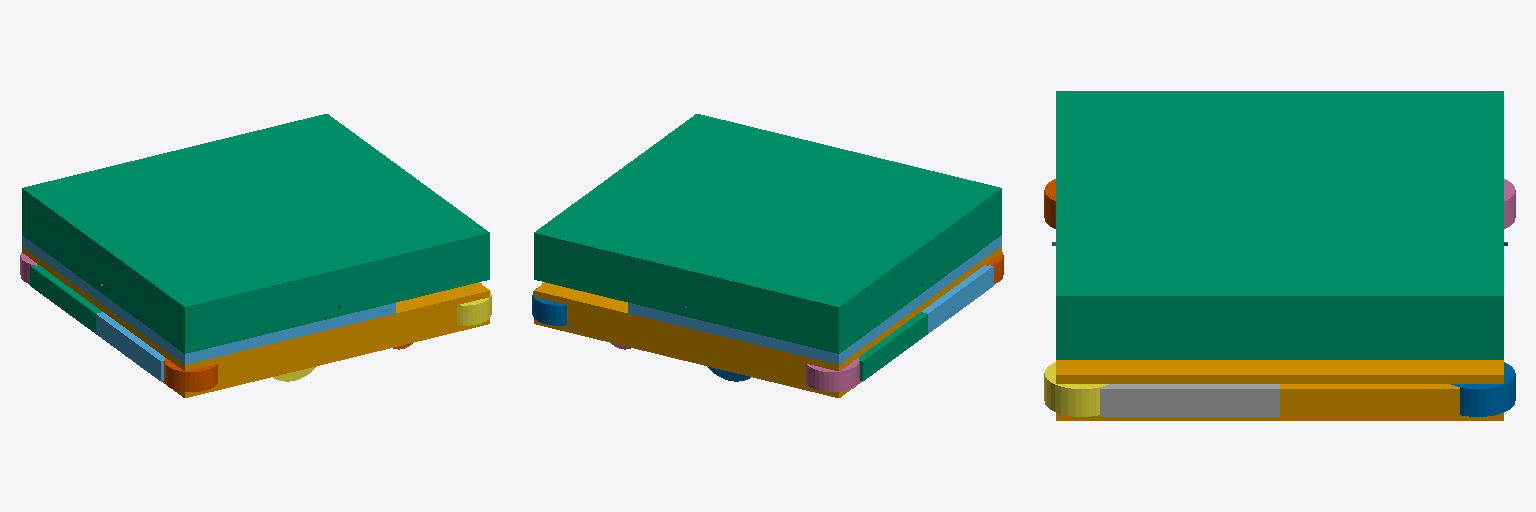
--- What the picture shows (computed from the rendered views, not written in the file) ---
The picture shows the robot from 3 angles, left to right: view 1: azimuth 30°, elevation 25°; view 2: azimuth 150°, elevation 25°; view 3: azimuth 270°, elevation 25°; orthographic projection.
Model gobot with 44 links and 43 joints (6 continuous, 10 prismatic, 27 fixed), rooted at base_link, posed all joints at 0.
Visible links, largest first — view 1: top_base_link, base_link, mid_base_link, back_right_bumper, back_left_bumper, back_right_cyl_bumper, front_right_cyl_bumper; view 2: top_base_link, base_link, mid_base_link, back_left_bumper, back_right_bumper, back_left_cyl_bumper, front_left_cyl_bumper; view 3: top_base_link, base_link, front_right_bumper, front_left_bumper, front_right_cyl_bumper, front_left_cyl_bumper.
Link boxes in pixels (x1,y1,x2,y2): top_base_link: [22, 114, 489, 353]; base_link: [22, 246, 489, 397]; mid_base_link: [22, 235, 395, 364]; back_right_bumper: [96, 312, 164, 381]; back_left_bumper: [30, 264, 102, 333]; back_right_cyl_bumper: [164, 358, 217, 391]; front_right_cyl_bumper: [457, 288, 491, 325]; top_base_link: [534, 114, 1001, 353]; base_link: [534, 246, 1001, 397]; mid_base_link: [628, 235, 1001, 364]; back_left_bumper: [859, 312, 927, 381]; back_right_bumper: [921, 265, 993, 333]; back_left_cyl_bumper: [806, 358, 859, 391]; front_left_cyl_bumper: [532, 288, 566, 325]; top_base_link: [1056, 91, 1503, 359]; base_link: [1056, 360, 1503, 420]; front_right_bumper: [1100, 384, 1279, 416]; front_left_bumper: [1280, 384, 1459, 416]; front_right_cyl_bumper: [1044, 362, 1108, 416]; front_left_cyl_bumper: [1451, 362, 1515, 416].
Bounding box of the posed robot: 0.68 × 0.629 × 0.235 m (x, y, z).
Meshes: 1 distinct files referenced, 0 mesh visuals loaded (none loaded); not drawn: 11 (reference not matched to a file when rendering), 1 (reference in a form the renderer does not follow; not among the files counted above).

URDF robot description (gobot):
<?xml version="1.0" ?>
<!-- =================================================================================== -->
<!-- |    This document was autogenerated by xacro from gobot.urdf.xacro               | -->
<!-- |    EDITING THIS FILE BY HAND IS NOT RECOMMENDED                                 | -->
<!-- =================================================================================== -->
<robot name="gobot" xmlns:xacro="http://ros.org/wiki/xacro">
  <material name="black">
    <color rgba="0.0 0.0 0.0 1.0"/>
  </material>
  <material name="blue">
    <color rgba="0.0 0.0 0.8 1.0"/>
  </material>
  <material name="green">
    <color rgba="0.0 0.8 0.0 1.0"/>
  </material>
  <material name="grey">
    <color rgba="0.2 0.2 0.2 1.0"/>
  </material>
  <material name="orange">
    <color rgba="1.0 0.423529411765 0.0392156862745 1.0"/>
  </material>
  <material name="brown">
    <color rgba="0.870588235294 0.811764705882 0.764705882353 1.0"/>
  </material>
  <material name="red">
    <color rgba="0.8 0.0 0.0 1.0"/>
  </material>
  <material name="white">
    <color rgba="1.0 1.0 1.0 1.0"/>
  </material>
  <!-- in kg-->
  <!--fb : front, back ; lr: left, right -->
  <!-- The lower part of the base link -->
  <link name="base_link">
    <collision>
      <origin rpy="0 0 0" xyz="0 0 0.05"/>
      <geometry>
        <box size="0.648 0.599 0.068"/>
      </geometry>
    </collision>
    <visual>
      <origin rpy="0 0 0" xyz="0 0 0.05"/>
      <geometry>
        <box size="0.648 0.599 0.068"/>
      </geometry>
    </visual>
    <inertial>
      <origin rpy="0 0 0" xyz="0 0 0.05"/>
      <mass value="4"/>
      <inertia ixx="0.121141666667" ixy="0" ixz="0" iyy="0.141509333333" iyz="0" izz="0.141509333333"/>
    </inertial>
  </link>
  <gazebo reference="base_link">
    <material>Gazebo/Grey</material>
  </gazebo>
  <!-- The middle part of the base link -->
  <link name="mid_base_link">
    <collision>
      <origin rpy="0 0 0" xyz="0 0 0.05"/>
      <geometry>
        <box size="0.448 0.599 0.022"/>
      </geometry>
    </collision>
    <visual>
      <origin rpy="0 0 0" xyz="0 0 0.05"/>
      <geometry>
        <box size="0.448 0.599 0.022"/>
      </geometry>
    </visual>
    <inertial>
      <origin rpy="0 0 0" xyz="0 0 0.05"/>
      <mass value="2"/>
      <inertia ixx="0.0598808333333" ixy="0" ixz="0" iyy="0.0335313333333" iyz="0" izz="0.0335313333333"/>
    </inertial>
  </link>
  <gazebo reference="mid_base_link">
    <material>Gazebo/Grey</material>
  </gazebo>
  <!-- The top part of the base link -->
  <link name="top_base_link">
    <collision>
      <origin rpy="0 0 0" xyz="0 0 0.05"/>
      <geometry>
        <box size="0.648 0.599 0.095"/>
      </geometry>
    </collision>
    <visual>
      <origin rpy="0 0 0" xyz="0 0 0.05"/>
      <geometry>
        <box size="0.648 0.599 0.095"/>
      </geometry>
    </visual>
    <inertial>
      <origin rpy="0 0 0" xyz="0 0 0.05"/>
      <mass value="4"/>
      <inertia ixx="0.122608666667" ixy="0" ixz="0" iyy="0.142976333333" iyz="0" izz="0.142976333333"/>
    </inertial>
  </link>
  <gazebo reference="top_base_link">
    <material>Gazebo/Grey</material>
  </gazebo>
  <!-- The joint between the lower and middle part of the base link -->
  <joint name="lower_mid_joint" type="fixed">
    <origin xyz="-0.1 0 0.045"/>
    <parent link="base_link"/>
    <child link="mid_base_link"/>
  </joint>
  <!-- The joint between the middle and top part of the base link -->
  <joint name="mid_top_joint" type="fixed">
    <origin xyz="0.1 0 0.0585"/>
    <parent link="mid_base_link"/>
    <child link="top_base_link"/>
  </joint>
  <link name="front_right_cyl_bumper">
    <visual>
      <origin rpy="0 0  0 " xyz="0 0 0"/>
      <geometry>
        <cylinder length="0.041" radius="0.05"/>
      </geometry>
    </visual>
    <collision>
      <origin rpy="0 0 0 " xyz="0 0 0"/>
      <geometry>
        <cylinder length="0.041" radius="0.05"/>
      </geometry>
    </collision>
    <inertial>
      <mass value="0.1"/>
      <origin xyz="0 0 0"/>
      <inertia ixx="7.65083333333e-05" ixy="0" ixz="0" iyy="7.65083333333e-05" iyz="0" izz="0.000125"/>
    </inertial>
  </link>
  <joint name="front_right_cyl_bumper_joint" type="prismatic">
    <parent link="base_link"/>
    <child link="front_right_cyl_bumper"/>
    <origin rpy="0 0 0" xyz="0.2895 -0.2645 0.05"/>
    <axis xyz="1 0 0"/>
    <limit effort="1000" lower="-0.005" upper="0" velocity="0.5"/>
  </joint>
  <gazebo reference="front_right_cyl_bumper">
    <material>Gazebo/Black</material>
    <sensor name="front_right_cyl_bumper_sensor" type="contact">
      <contact>
        <collision>base_link_fixed_joint_lump__front_right_cyl_bumper_collision_12</collision>
      </contact>
      <plugin filename="libgazebo_ros_bumper.so" name="front_right_cyl_bumper_gazebo_ros_bumper_controller">
        <alwaysOn>true</alwaysOn>
        <updateRate>20</updateRate>
        <bumperTopicName>front_right_cyl_bumper</bumperTopicName>
        <frameName>world</frameName>
      </plugin>
    </sensor>
  </gazebo>
  <link name="front_left_cyl_bumper">
    <visual>
      <origin rpy="0 0  0 " xyz="0 0 0"/>
      <geometry>
        <cylinder length="0.041" radius="0.05"/>
      </geometry>
    </visual>
    <collision>
      <origin rpy="0 0 0 " xyz="0 0 0"/>
      <geometry>
        <cylinder length="0.041" radius="0.05"/>
      </geometry>
    </collision>
    <inertial>
      <mass value="0.1"/>
      <origin xyz="0 0 0"/>
      <inertia ixx="7.65083333333e-05" ixy="0" ixz="0" iyy="7.65083333333e-05" iyz="0" izz="0.000125"/>
    </inertial>
  </link>
  <joint name="front_left_cyl_bumper_joint" type="prismatic">
    <parent link="base_link"/>
    <child link="front_left_cyl_bumper"/>
    <origin rpy="0 0 0" xyz="0.2895 0.2645 0.05"/>
    <axis xyz="1 0 0"/>
    <limit effort="1000" lower="-0.005" upper="0" velocity="0.5"/>
  </joint>
  <gazebo reference="front_left_cyl_bumper">
    <material>Gazebo/Black</material>
    <sensor name="front_left_cyl_bumper_sensor" type="contact">
      <contact>
        <collision>base_link_fixed_joint_lump__front_left_cyl_bumper_collision_10</collision>
      </contact>
      <plugin filename="libgazebo_ros_bumper.so" name="front_left_cyl_bumper_gazebo_ros_bumper_controller">
        <alwaysOn>true</alwaysOn>
        <updateRate>20</updateRate>
        <bumperTopicName>front_left_cyl_bumper</bumperTopicName>
        <frameName>world</frameName>
      </plugin>
    </sensor>
  </gazebo>
  <link name="back_right_cyl_bumper">
    <visual>
      <origin rpy="0 0  0 " xyz="0 0 0"/>
      <geometry>
        <cylinder length="0.041" radius="0.05"/>
      </geometry>
    </visual>
    <collision>
      <origin rpy="0 0 0 " xyz="0 0 0"/>
      <geometry>
        <cylinder length="0.041" radius="0.05"/>
      </geometry>
    </collision>
    <inertial>
      <mass value="0.1"/>
      <origin xyz="0 0 0"/>
      <inertia ixx="7.65083333333e-05" ixy="0" ixz="0" iyy="7.65083333333e-05" iyz="0" izz="0.000125"/>
    </inertial>
  </link>
  <joint name="back_right_cyl_bumper_joint" type="prismatic">
    <parent link="base_link"/>
    <child link="back_right_cyl_bumper"/>
    <origin rpy="0 0 0" xyz="-0.2895 -0.2645 0.05"/>
    <axis xyz="1 0 0"/>
    <limit effort="1000" lower="0" upper="0.005" velocity="-0.5"/>
  </joint>
  <gazebo reference="back_right_cyl_bumper">
    <material>Gazebo/Black</material>
    <sensor name="back_right_cyl_bumper_sensor" type="contact">
      <contact>
        <collision>base_link_fixed_joint_lump__back_right_cyl_bumper_collision_4</collision>
      </contact>
      <plugin filename="libgazebo_ros_bumper.so" name="back_right_cyl_bumper_gazebo_ros_bumper_controller">
        <alwaysOn>true</alwaysOn>
        <updateRate>20</updateRate>
        <bumperTopicName>back_right_cyl_bumper</bumperTopicName>
        <frameName>world</frameName>
      </plugin>
    </sensor>
  </gazebo>
  <link name="back_left_cyl_bumper">
    <visual>
      <origin rpy="0 0  0 " xyz="0 0 0"/>
      <geometry>
        <cylinder length="0.041" radius="0.05"/>
      </geometry>
    </visual>
    <collision>
      <origin rpy="0 0 0 " xyz="0 0 0"/>
      <geometry>
        <cylinder length="0.041" radius="0.05"/>
      </geometry>
    </collision>
    <inertial>
      <mass value="0.1"/>
      <origin xyz="0 0 0"/>
      <inertia ixx="7.65083333333e-05" ixy="0" ixz="0" iyy="7.65083333333e-05" iyz="0" izz="0.000125"/>
    </inertial>
  </link>
  <joint name="back_left_cyl_bumper_joint" type="prismatic">
    <parent link="base_link"/>
    <child link="back_left_cyl_bumper"/>
    <origin rpy="0 0 0" xyz="-0.2895 0.2645 0.05"/>
    <axis xyz="1 0 0"/>
    <limit effort="1000" lower="0" upper="0.005" velocity="-0.5"/>
  </joint>
  <gazebo reference="back_left_cyl_bumper">
    <material>Gazebo/Black</material>
    <sensor name="back_left_cyl_bumper_sensor" type="contact">
      <contact>
        <collision>base_link_fixed_joint_lump__back_left_cyl_bumper_collision_2</collision>
      </contact>
      <plugin filename="libgazebo_ros_bumper.so" name="back_left_cyl_bumper_gazebo_ros_bumper_controller">
        <alwaysOn>true</alwaysOn>
        <updateRate>20</updateRate>
        <bumperTopicName>back_left_cyl_bumper</bumperTopicName>
        <frameName>world</frameName>
      </plugin>
    </sensor>
  </gazebo>
  <link name="front_right_bumper">
    <collision name="front_right_bumper">
      <origin rpy="0 0 0" xyz="0 0 0"/>
      <geometry>
        <box size="0.016 0.24 0.041"/>
      </geometry>
    </collision>
    <visual>
      <origin rpy="0 0 0" xyz="0 0 0"/>
      <geometry>
        <box size="0.016 0.24 0.041"/>
      </geometry>
    </visual>
    <inertial>
      <origin rpy="0 0 0" xyz="0 0 0"/>
      <mass value="0.4"/>
      <inertia ixx="0.00197603333333" ixy="0" ixz="0" iyy="6.45666666667e-05" iyz="0" izz="6.45666666667e-05"/>
    </inertial>
  </link>
  <!-- The joint between the bumper and parent -->
  <joint name="front_right_bumper_joint" type="prismatic">
    <parent link="base_link"/>
    <child link="front_right_bumper"/>
    <origin rpy="0 0 0" xyz="0.332 -0.12 0.05"/>
    <axis xyz="1 0 0"/>
    <limit effort="1000" lower="-0.005" upper="0" velocity="0.5"/>
  </joint>
  <gazebo reference="front_right_bumper">
    <material>Gazebo/Black</material>
    <sensor name="front_right_bumper_sensor" type="contact">
      <contact>
        <collision>base_link_fixed_joint_lump__front_right_bumper_collision_11</collision>
      </contact>
      <plugin filename="libgazebo_ros_bumper.so" name="front_right_bumper_gazebo_ros_bumper_controller">
        <alwaysOn>true</alwaysOn>
        <updateRate>20</updateRate>
        <bumperTopicName>front_right_bumper</bumperTopicName>
        <frameName>world</frameName>
      </plugin>
    </sensor>
  </gazebo>
  <link name="front_left_bumper">
    <collision name="front_left_bumper">
      <origin rpy="0 0 0" xyz="0 0 0"/>
      <geometry>
        <box size="0.016 0.24 0.041"/>
      </geometry>
    </collision>
    <visual>
      <origin rpy="0 0 0" xyz="0 0 0"/>
      <geometry>
        <box size="0.016 0.24 0.041"/>
      </geometry>
    </visual>
    <inertial>
      <origin rpy="0 0 0" xyz="0 0 0"/>
      <mass value="0.4"/>
      <inertia ixx="0.00197603333333" ixy="0" ixz="0" iyy="6.45666666667e-05" iyz="0" izz="6.45666666667e-05"/>
    </inertial>
  </link>
  <!-- The joint between the bumper and parent -->
  <joint name="front_left_bumper_joint" type="prismatic">
    <parent link="base_link"/>
    <child link="front_left_bumper"/>
    <origin rpy="0 0 0" xyz="0.332 0.12 0.05"/>
    <axis xyz="1 0 0"/>
    <limit effort="1000" lower="-0.005" upper="0" velocity="0.5"/>
  </joint>
  <gazebo reference="front_left_bumper">
    <material>Gazebo/Black</material>
    <sensor name="front_left_bumper_sensor" type="contact">
      <contact>
        <collision>base_link_fixed_joint_lump__front_left_bumper_collision_9</collision>
      </contact>
      <plugin filename="libgazebo_ros_bumper.so" name="front_left_bumper_gazebo_ros_bumper_controller">
        <alwaysOn>true</alwaysOn>
        <updateRate>20</updateRate>
        <bumperTopicName>front_left_bumper</bumperTopicName>
        <frameName>world</frameName>
      </plugin>
    </sensor>
  </gazebo>
  <link name="back_right_bumper">
    <collision name="back_right_bumper">
      <origin rpy="0 0 0" xyz="0 0 0"/>
      <geometry>
        <box size="0.016 0.24 0.041"/>
      </geometry>
    </collision>
    <visual>
      <origin rpy="0 0 0" xyz="0 0 0"/>
      <geometry>
        <box size="0.016 0.24 0.041"/>
      </geometry>
    </visual>
    <inertial>
      <origin rpy="0 0 0" xyz="0 0 0"/>
      <mass value="0.4"/>
      <inertia ixx="0.00197603333333" ixy="0" ixz="0" iyy="6.45666666667e-05" iyz="0" izz="6.45666666667e-05"/>
    </inertial>
  </link>
  <!-- The joint between the bumper and parent -->
  <joint name="back_right_bumper_joint" type="prismatic">
    <parent link="base_link"/>
    <child link="back_right_bumper"/>
    <origin rpy="0 0 0" xyz="-0.332 -0.12 0.05"/>
    <axis xyz="1 0 0"/>
    <limit effort="1000" lower="0" upper="0.005" velocity="-0.5"/>
  </joint>
  <gazebo reference="back_right_bumper">
    <material>Gazebo/Black</material>
    <sensor name="back_right_bumper_sensor" type="contact">
      <contact>
        <collision>base_link_fixed_joint_lump__back_right_bumper_collision_3</collision>
      </contact>
      <plugin filename="libgazebo_ros_bumper.so" name="back_right_bumper_gazebo_ros_bumper_controller">
        <alwaysOn>true</alwaysOn>
        <updateRate>20</updateRate>
        <bumperTopicName>back_right_bumper</bumperTopicName>
        <frameName>world</frameName>
      </plugin>
    </sensor>
  </gazebo>
  <link name="back_left_bumper">
    <collision name="back_left_bumper">
      <origin rpy="0 0 0" xyz="0 0 0"/>
      <geometry>
        <box size="0.016 0.24 0.041"/>
      </geometry>
    </collision>
    <visual>
      <origin rpy="0 0 0" xyz="0 0 0"/>
      <geometry>
        <box size="0.016 0.24 0.041"/>
      </geometry>
    </visual>
    <inertial>
      <origin rpy="0 0 0" xyz="0 0 0"/>
      <mass value="0.4"/>
      <inertia ixx="0.00197603333333" ixy="0" ixz="0" iyy="6.45666666667e-05" iyz="0" izz="6.45666666667e-05"/>
    </inertial>
  </link>
  <!-- The joint between the bumper and parent -->
  <joint name="back_left_bumper_joint" type="prismatic">
    <parent link="base_link"/>
    <child link="back_left_bumper"/>
    <origin rpy="0 0 0" xyz="-0.332 0.12 0.05"/>
    <axis xyz="1 0 0"/>
    <limit effort="1000" lower="0" upper="0.005" velocity="-0.5"/>
  </joint>
  <gazebo reference="back_left_bumper">
    <material>Gazebo/Black</material>
    <sensor name="back_left_bumper_sensor" type="contact">
      <contact>
        <collision>base_link_fixed_joint_lump__back_left_bumper_collision_1</collision>
      </contact>
      <plugin filename="libgazebo_ros_bumper.so" name="back_left_bumper_gazebo_ros_bumper_controller">
        <alwaysOn>true</alwaysOn>
        <updateRate>20</updateRate>
        <bumperTopicName>back_left_bumper</bumperTopicName>
        <frameName>world</frameName>
      </plugin>
    </sensor>
  </gazebo>
  <!--fb : front, back ; lr: left, right -->
  <link name="front_right_wheel">
    <visual>
      <origin rpy="1.57079632679 0  0 " xyz="0 0 0"/>
      <geometry>
        <cylinder length="0.042" radius="0.0725"/>
      </geometry>
      <material name="DarkGray"/>
    </visual>
    <collision>
      <origin rpy="1.57079632679 0 0 " xyz="0 0 0"/>
      <geometry>
        <cylinder length="0.042" radius="0.0725"/>
      </geometry>
    </collision>
    <inertial>
      <mass value="0.6"/>
      <origin xyz="0 0 0"/>
      <inertia ixx="0.0008766375" ixy="0" ixz="0" iyy="0.0008766375" iyz="0" izz="0.001576875"/>
    </inertial>
  </link>
  <joint name="front_right_wheel_joint" type="continuous">
    <parent link="base_link"/>
    <child link="front_right_wheel"/>
    <origin rpy="0 0 0" xyz="-0.057 -0.22 0.0385"/>
    <axis rpy="0 0 0" xyz="0 1 0"/>
    <limit effort="100" velocity="100"/>
    <joint_properties damping="0.0" friction="0.0"/>
  </joint>
  <gazebo reference="front_right_wheel">
    <mu1 value="1.0"/>
    <mu2 value="1.0"/>
    <kp value="10000000.0"/>
    <kd value="1.0"/>
    <fdir1 value="1 0 0"/>
    <material>Gazebo/Grey</material>
  </gazebo>
  <!-- Transmission is important to link the joints and the controller -->
  <transmission name="front_right_wheel_joint_trans">
    <type>transmission_interface/SimpleTransmission</type>
    <joint name="front_right_wheel_joint">
      <hardwareInterface>EffortJointInterface</hardwareInterface>
    </joint>
    <actuator name="front_right_wheel_joint_motor">
      <mechanicalReduction>1</mechanicalReduction>
    </actuator>
  </transmission>
  <!--fb : front, back ; lr: left, right -->
  <link name="front_left_wheel">
    <visual>
      <origin rpy="1.57079632679 0  0 " xyz="0 0 0"/>
      <geometry>
        <cylinder length="0.042" radius="0.0725"/>
      </geometry>
      <material name="DarkGray"/>
    </visual>
    <collision>
      <origin rpy="1.57079632679 0 0 " xyz="0 0 0"/>
      <geometry>
        <cylinder length="0.042" radius="0.0725"/>
      </geometry>
    </collision>
    <inertial>
      <mass value="0.6"/>
      <origin xyz="0 0 0"/>
      <inertia ixx="0.0008766375" ixy="0" ixz="0" iyy="0.0008766375" iyz="0" izz="0.001576875"/>
    </inertial>
  </link>
  <joint name="front_left_wheel_joint" type="continuous">
    <parent link="base_link"/>
    <child link="front_left_wheel"/>
    <origin rpy="0 0 0" xyz="-0.057 0.22 0.0385"/>
    <axis rpy="0 0 0" xyz="0 1 0"/>
    <limit effort="100" velocity="100"/>
    <joint_properties damping="0.0" friction="0.0"/>
  </joint>
  <gazebo reference="front_left_wheel">
    <mu1 value="1.0"/>
    <mu2 value="1.0"/>
    <kp value="10000000.0"/>
    <kd value="1.0"/>
    <fdir1 value="1 0 0"/>
    <material>Gazebo/Grey</material>
  </gazebo>
  <!-- Transmission is important to link the joints and the controller -->
  <transmission name="front_left_wheel_joint_trans">
    <type>transmission_interface/SimpleTransmission</type>
    <joint name="front_left_wheel_joint">
      <hardwareInterface>EffortJointInterface</hardwareInterface>
    </joint>
    <actuator name="front_left_wheel_joint_motor">
      <mechanicalReduction>1</mechanicalReduction>
    </actuator>
  </transmission>
  <gazebo>
    <plugin filename="libgobot_diff_drive_plugin.so" name="differential_drive_controller">
      <alwaysOn>true</alwaysOn>
      <legacyMode>false</legacyMode>
      <updateRate>40</updateRate>
      <leftJoint>front_left_wheel_joint</leftJoint>
      <rightJoint>front_right_wheel_joint</rightJoint>
      <wheelSeparation>0.44</wheelSeparation>
      <wheelDiameter>0.145</wheelDiameter>
      <commandTopic>cmd_vel</commandTopic>
      <odometryTopic>odom</odometryTopic>
      <odometryFrame>odom</odometryFrame>
      <robotBaseFrame>base_link</robotBaseFrame>
      <rosDebugLevel>na</rosDebugLevel>
      <publishWheelTF>false</publishWheelTF>
      <publishWheelJointState>false</publishWheelJointState>
      <wheelAcceleration>0</wheelAcceleration>
      <wheelTorque>5</wheelTorque>
      <odometrySource>world</odometrySource>
      <publishTf>1</publishTf>
    </plugin>
  </gazebo>
  <!--fb : front, back ; lr: left, right -->
  <link name="front_right_caster_wheel">
    <visual>
      <origin rpy="1.57079632679 0  0 " xyz="0 0 0"/>
      <geometry>
        <cylinder length="0.023" radius="0.037"/>
      </geometry>
    </visual>
    <collision>
      <origin rpy="1.57079632679 0 0 " xyz="0 0 0"/>
      <geometry>
        <cylinder length="0.023" radius="0.037"/>
      </geometry>
    </collision>
    <inertial>
      <mass value="0.2"/>
      <origin xyz="0 0 0"/>
      <inertia ixx="7.72666666667e-05" ixy="0" ixz="0" iyy="7.72666666667e-05" iyz="0" izz="0.0001369"/>
    </inertial>
  </link>
  <joint name="front_right_caster_wheel_joint" type="continuous">
    <parent link="base_link"/>
    <child link="front_right_caster_wheel"/>
    <origin rpy="0 0 0" xyz="0.184 -0.2095 0.003"/>
    <axis rpy="0 0 0" xyz="0 1 0"/>
  </joint>
  <gazebo reference="front_right_caster_wheel">
    <material>Gazebo/Black</material>
    <mu1 value="0"/>
    <mu2 value="0"/>
    <kp value="10000000.0"/>
    <kd value="1.0"/>
    <fdir1 value="1 0 0"/>
  </gazebo>
  <!--fb : front, back ; lr: left, right -->
  <link name="front_left_caster_wheel">
    <visual>
      <origin rpy="1.57079632679 0  0 " xyz="0 0 0"/>
      <geometry>
        <cylinder length="0.023" radius="0.037"/>
      </geometry>
    </visual>
    <collision>
      <origin rpy="1.57079632679 0 0 " xyz="0 0 0"/>
      <geometry>
        <cylinder length="0.023" radius="0.037"/>
      </geometry>
    </collision>
    <inertial>
      <mass value="0.2"/>
      <origin xyz="0 0 0"/>
      <inertia ixx="7.72666666667e-05" ixy="0" ixz="0" iyy="7.72666666667e-05" iyz="0" izz="0.0001369"/>
    </inertial>
  </link>
  <joint name="front_left_caster_wheel_joint" type="continuous">
    <parent link="base_link"/>
    <child link="front_left_caster_wheel"/>
    <origin rpy="0 0 0" xyz="0.184 0.2095 0.003"/>
    <axis rpy="0 0 0" xyz="0 1 0"/>
  </joint>
  <gazebo reference="front_left_caster_wheel">
    <material>Gazebo/Black</material>
    <mu1 value="0"/>
    <mu2 value="0"/>
    <kp value="10000000.0"/>
    <kd value="1.0"/>
    <fdir1 value="1 0 0"/>
  </gazebo>
  <!--fb : front, back ; lr: left, right -->
  <link name="back_right_caster_wheel">
    <visual>
      <origin rpy="1.57079632679 0  0 " xyz="0 0 0"/>
      <geometry>
        <cylinder length="0.023" radius="0.037"/>
      </geometry>
    </visual>
    <collision>
      <origin rpy="1.57079632679 0 0 " xyz="0 0 0"/>
      <geometry>
        <cylinder length="0.023" radius="0.037"/>
      </geometry>
    </collision>
    <inertial>
      <mass value="0.2"/>
      <origin xyz="0 0 0"/>
      <inertia ixx="7.72666666667e-05" ixy="0" ixz="0" iyy="7.72666666667e-05" iyz="0" izz="0.0001369"/>
    </inertial>
  </link>
  <joint name="back_right_caster_wheel_joint" type="continuous">
    <parent link="base_link"/>
    <child link="back_right_caster_wheel"/>
    <origin rpy="0 0 0" xyz="-0.244 -0.1895 0.011"/>
    <axis rpy="0 0 0" xyz="0 1 0"/>
  </joint>
  <gazebo reference="back_right_caster_wheel">
    <material>Gazebo/Black</material>
    <mu1 value="0"/>
    <mu2 value="0"/>
    <kp value="10000000.0"/>
    <kd value="1.0"/>
    <fdir1 value="1 0 0"/>
  </gazebo>
  <!--fb : front, back ; lr: left, right -->
  <link name="back_left_caster_wheel">
    <visual>
      <origin rpy="1.57079632679 0  0 " xyz="0 0 0"/>
      <geometry>
        <cylinder length="0.023" radius="0.037"/>
      </geometry>
    </visual>
    <collision>
      <origin rpy="1.57079632679 0 0 " xyz="0 0 0"/>
      <geometry>
        <cylinder length="0.023" radius="0.037"/>
      </geometry>
    </collision>
    <inertial>
      <mass value="0.2"/>
      <origin xyz="0 0 0"/>
      <inertia ixx="7.72666666667e-05" ixy="0" ixz="0" iyy="7.72666666667e-05" iyz="0" izz="0.0001369"/>
    </inertial>
  </link>
  <joint name="back_left_caster_wheel_joint" type="continuous">
    <parent link="base_link"/>
    <child link="back_left_caster_wheel"/>
    <origin rpy="0 0 0" xyz="-0.244 0.1895 0.011"/>
    <axis rpy="0 0 0" xyz="0 1 0"/>
  </joint>
  <gazebo reference="back_left_caster_wheel">
    <material>Gazebo/Black</material>
    <mu1 value="0"/>
    <mu2 value="0"/>
    <kp value="10000000.0"/>
    <kd value="1.0"/>
    <fdir1 value="1 0 0"/>
  </gazebo>
  <joint name="hokuyo_joint" type="fixed">
    <axis xyz="0 1 0"/>
    <origin rpy="0 0 0" xyz="0.266 0 0.04"/>
    <parent link="base_link"/>
    <child link="hokuyo_link"/>
  </joint>
  <link name="hokuyo_link">
    <inertial>
      <mass value="0.001"/>
      <origin rpy="0 0 0" xyz="0 0 0"/>
      <inertia ixx="0.0001" ixy="0" ixz="0" iyy="0.000001" iyz="0" izz="0.0001"/>
    </inertial>
    <visual>
      <origin rpy="0 0 0" xyz="0 0 0"/>
      <geometry>
        <mesh filename="[local-path]/catkin_ws/src/gobot_simulation/gobot_description/meshes/hokuyo.dae" scale="0.024 0.024 0.024"/>
      </geometry>
    </visual>
    <collision>
      <!-- specifying a slightly too small collision surface because otherwise gazebo simulation catches on it -->
      <origin rpy="0 0 0" xyz="0 0 0.03"/>
      <geometry>
        <box size="0.02 0.02 0.06"/>
      </geometry>
    </collision>
  </link>
  <!-- go from the base of the laser to the actual sensor location -->
  <joint name="hokuyo_laser_joint" type="fixed">
    <origin xyz="0.002 0 0.0525"/>
    <!-- in segbot package was 0.058 but looking at specs it is less -->
    <parent link="hokuyo_link"/>
    <child link="hokuyo_laser_link"/>
  </joint>
  <link name="hokuyo_laser_link" type="laser">
    <inertial>
      <mass value="0.001"/>
      <origin rpy="0 0 0" xyz="0 0 0"/>
      <inertia ixx="0.0001" ixy="0" ixz="0" iyy="0.000001" iyz="0" izz="0.0001"/>
    </inertial>
  </link>
  <gazebo reference="hokuyo_laser_link">
    <sensor name="hokuyo_laser" type="ray">
      <always_on>true</always_on>
      <update_rate>20</update_rate>
      <pose>0 0 0 0 0 0</pose>
      <visualize>1</visualize>
      <ray>
        <scan>
          <horizontal>
            <samples>640</samples>
            <resolution>1</resolution>
            <min_angle>-1.57079632679</min_angle>
            <max_angle>1.57079632679</max_angle>
          </horizontal>
        </scan>
        <range>
          <min>0.02</min>
          <max>4.0</max>
          <resolution>0.03</resolution>
        </range>
        <noise>
          <type>gaussian</type>
          <!-- Noise parameters based on published spec for Hokuyo laser
            achieving "+-30mm" accuracy at range < 10m.  A mean of 0.0m and
            stddev of 0.01m will put 99.7% of samples within 0.03m of the true
            reading. 
            -->
          <mean>0.0</mean>
          <stddev>0.01</stddev>
        </noise>
      </ray>
      <plugin filename="libgazebo_ros_laser.so" name="gazebo_ros_hokuyo_laser_controller">
        <alwaysOn>true</alwaysOn>
        <updateRate>20</updateRate>
        <topicName>/scan</topicName>
        <frameName>hokuyo_link</frameName>
      </plugin>
    </sensor>
  </gazebo>
  <joint name="cliff_sensor_joint" type="fixed">
    <origin rpy="0 1.57079632679 0" xyz="0.304 -0.224 0.016"/>
    <parent link="base_link"/>
    <child link="cliff_sensor_link"/>
  </joint>
  <link name="cliff_sensor_link">
    <inertial>
      <mass value="0.001"/>
      <origin rpy="0 0 0" xyz="0 0 0"/>
      <inertia ixx="0.000000017" ixy="0" ixz="0" iyy="0.000000017" iyz="0" izz="0.000000017"/>
    </inertial>
    <visual>
      <origin rpy="0 0 0" xyz="0 0 0"/>
      <geometry>
        <!--<box size="0.01 0.01 0.01" /> -->
        <mesh filename="package://hector_sensors_description/meshes/sonar_sensor/max_sonar_ez4.dae"/>
      </geometry>
    </visual>
    <collision>
      <origin rpy="0 0 0" xyz="0 0 0"/>
      <geometry>
        <box size="0.01 0.01 0.01"/>
      </geometry>
    </collision>
  </link>
  <gazebo reference="cliff_sensor_link">
    <sensor name="cliff_sensor" type="ray">
      <always_on>true</always_on>
      <update_rate>10</update_rate>
      <visualize>true</visualize>
      <ray>
        <scan>
          <!-->
            <vertical>
              <samples>${ray_count}</samples>
              <resolution>1</resolution>
              <min_angle>${-field_of_view/2-M_PI/2}</min_angle>
              <max_angle>${field_of_view/2+M_PI/2}</max_angle>
            </vertical>
  <-->
          <horizontal>
            <samples>1</samples>
            <resolution>1</resolution>
            <min_angle>-0.025</min_angle>
            <max_angle>0.025</max_angle>
          </horizontal>
        </scan>
        <range>
          <min>0.03</min>
          <max>2.0</max>
          <resolution>0.01</resolution>
        </range>
      </ray>
      <plugin filename="libhector_gazebo_ros_sonar.so" name="gazebo_ros_cliff_sensor_controller">
        <gaussianNoise>0.03</gaussianNoise>
        <topicName>cliff_sensor_topic</topicName>
        <frameId>cliff_sensor_link</frameId>
      </plugin>
    </sensor>
  </gazebo>
  <joint name="cliff_sensor_2_joint" type="fixed">
    <origin rpy="0 1.57079632679 0" xyz="-0.304 -0.224 0.016"/>
    <parent link="base_link"/>
    <child link="cliff_sensor_2_link"/>
  </joint>
  <link name="cliff_sensor_2_link">
    <inertial>
      <mass value="0.001"/>
      <origin rpy="0 0 0" xyz="0 0 0"/>
      <inertia ixx="0.000000017" ixy="0" ixz="0" iyy="0.000000017" iyz="0" izz="0.000000017"/>
    </inertial>
    <visual>
      <origin rpy="0 0 0" xyz="0 0 0"/>
      <geometry>
        <!--<box size="0.01 0.01 0.01" /> -->
        <mesh filename="package://hector_sensors_description/meshes/sonar_sensor/max_sonar_ez4.dae"/>
      </geometry>
    </visual>
    <collision>
      <origin rpy="0 0 0" xyz="0 0 0"/>
      <geometry>
        <box size="0.01 0.01 0.01"/>
      </geometry>
    </collision>
  </link>
  <gazebo reference="cliff_sensor_2_link">
    <sensor name="cliff_sensor_2" type="ray">
      <always_on>true</always_on>
      <update_rate>10</update_rate>
      <visualize>true</visualize>
      <ray>
        <scan>
          <!-->
            <vertical>
              <samples>${ray_count}</samples>
              <resolution>1</resolution>
              <min_angle>${-field_of_view/2-M_PI/2}</min_angle>
              <max_angle>${field_of_view/2+M_PI/2}</max_angle>
            </vertical>
  <-->
          <horizontal>
            <samples>1</samples>
            <resolution>1</resolution>
            <min_angle>-0.025</min_angle>
            <max_angle>0.025</max_angle>
          </horizontal>
        </scan>
        <range>
          <min>0.01</min>
          <max>2.0</max>
          <resolution>0.01</resolution>
        </range>
      </ray>
      <plugin filename="libhector_gazebo_ros_sonar.so" name="gazebo_ros_cliff_sensor_2_controller">
        <gaussianNoise>0.03</gaussianNoise>
        <topicName>cliff_sensor_2_topic</topicName>
        <frameId>cliff_sensor_2_link</frameId>
      </plugin>
    </sensor>
  </gazebo>
  <joint name="cliff_sensor_3_joint" type="fixed">
    <origin rpy="0 1.57079632679 0" xyz="0.304 0.224 0.016"/>
    <parent link="base_link"/>
    <child link="cliff_sensor_3_link"/>
  </joint>
  <link name="cliff_sensor_3_link">
    <inertial>
      <mass value="0.001"/>
      <origin rpy="0 0 0" xyz="0 0 0"/>
      <inertia ixx="0.000000017" ixy="0" ixz="0" iyy="0.000000017" iyz="0" izz="0.000000017"/>
    </inertial>
    <visual>
      <origin rpy="0 0 0" xyz="0 0 0"/>
      <geometry>
        <!--<box size="0.01 0.01 0.01" /> -->
        <mesh filename="package://hector_sensors_description/meshes/sonar_sensor/max_sonar_ez4.dae"/>
      </geometry>
    </visual>
    <collision>
      <origin rpy="0 0 0" xyz="0 0 0"/>
      <geometry>
        <box size="0.01 0.01 0.01"/>
      </geometry>
    </collision>
  </link>
  <gazebo reference="cliff_sensor_3_link">
    <sensor name="cliff_sensor_3" type="ray">
      <always_on>true</always_on>
      <update_rate>10</update_rate>
      <visualize>true</visualize>
      <ray>
        <scan>
          <!-->
            <vertical>
              <samples>${ray_count}</samples>
              <resolution>1</resolution>
              <min_angle>${-field_of_view/2-M_PI/2}</min_angle>
              <max_angle>${field_of_view/2+M_PI/2}</max_angle>
            </vertical>
  <-->
          <horizontal>
            <samples>1</samples>
            <resolution>1</resolution>
            <min_angle>-0.025</min_angle>
            <max_angle>0.025</max_angle>
          </horizontal>
        </scan>
        <range>
          <min>0.01</min>
          <max>2.0</max>
          <resolution>0.01</resolution>
        </range>
      </ray>
      <plugin filename="libhector_gazebo_ros_sonar.so" name="gazebo_ros_cliff_sensor_3_controller">
        <gaussianNoise>0.03</gaussianNoise>
        <topicName>cliff_sensor_3_topic</topicName>
        <frameId>cliff_sensor_3_link</frameId>
      </plugin>
    </sensor>
  </gazebo>
  <joint name="cliff_sensor_4_joint" type="fixed">
    <origin rpy="0 1.57079632679 0" xyz="-0.304 0.224 0.016"/>
    <parent link="base_link"/>
    <child link="cliff_sensor_4_link"/>
  </joint>
  <link name="cliff_sensor_4_link">
    <inertial>
      <mass value="0.001"/>
      <origin rpy="0 0 0" xyz="0 0 0"/>
      <inertia ixx="0.000000017" ixy="0" ixz="0" iyy="0.000000017" iyz="0" izz="0.000000017"/>
    </inertial>
    <visual>
      <origin rpy="0 0 0" xyz="0 0 0"/>
      <geometry>
        <!--<box size="0.01 0.01 0.01" /> -->
        <mesh filename="package://hector_sensors_description/meshes/sonar_sensor/max_sonar_ez4.dae"/>
      </geometry>
    </visual>
    <collision>
      <origin rpy="0 0 0" xyz="0 0 0"/>
      <geometry>
        <box size="0.01 0.01 0.01"/>
      </geometry>
    </collision>
  </link>
  <gazebo reference="cliff_sensor_4_link">
    <sensor name="cliff_sensor_4" type="ray">
      <always_on>true</always_on>
      <update_rate>10</update_rate>
      <visualize>true</visualize>
      <ray>
        <scan>
          <!-->
            <vertical>
              <samples>${ray_count}</samples>
              <resolution>1</resolution>
              <min_angle>${-field_of_view/2-M_PI/2}</min_angle>
              <max_angle>${field_of_view/2+M_PI/2}</max_angle>
            </vertical>
  <-->
          <horizontal>
            <samples>1</samples>
            <resolution>1</resolution>
            <min_angle>-0.025</min_angle>
            <max_angle>0.025</max_angle>
          </horizontal>
        </scan>
        <range>
          <min>0.01</min>
          <max>2.0</max>
          <resolution>0.01</resolution>
        </range>
      </ray>
      <plugin filename="libhector_gazebo_ros_sonar.so" name="gazebo_ros_cliff_sensor_4_controller">
        <gaussianNoise>0.03</gaussianNoise>
        <topicName>cliff_sensor_4_topic</topicName>
        <frameId>cliff_sensor_4_link</frameId>
      </plugin>
    </sensor>
  </gazebo>
  <joint name="sonar_E0_joint" type="fixed">
    <origin rpy="0 0 3.14159265359" xyz="-0.324 -0.065 0.08"/>
    <parent link="base_link"/>
    <child link="sonar_E0_link"/>
  </joint>
  <link name="sonar_E0_link">
    <inertial>
      <mass value="0.001"/>
      <origin rpy="0 0 0" xyz="0 0 0"/>
      <inertia ixx="0.000000017" ixy="0" ixz="0" iyy="0.000000017" iyz="0" izz="0.000000017"/>
    </inertial>
    <visual>
      <origin rpy="0 0 0" xyz="0 0 0"/>
      <geometry>
        <!--<box size="0.01 0.01 0.01" /> -->
        <mesh filename="package://hector_sensors_description/meshes/sonar_sensor/max_sonar_ez4.dae"/>
      </geometry>
    </visual>
    <collision>
      <origin rpy="0 0 0" xyz="0 0 0"/>
      <geometry>
        <box size="0.01 0.01 0.01"/>
      </geometry>
    </collision>
  </link>
  <gazebo reference="sonar_E0_link">
    <sensor name="sonar_E0" type="ray">
      <always_on>true</always_on>
      <update_rate>20</update_rate>
      <visualize>false</visualize>
      <ray>
        <scan>
          <horizontal>
            <samples>60</samples>
            <resolution>1</resolution>
            <min_angle>-0.5236</min_angle>
            <max_angle>0.5236</max_angle>
          </horizontal>
        </scan>
        <range>
          <min>0.15</min>
          <max>6.0</max>
          <resolution>0.03</resolution>
        </range>
      </ray>
      <plugin filename="libhector_gazebo_ros_sonar.so" name="gazebo_ros_sonar_E0_controller">
        <gaussianNoise>0.03</gaussianNoise>
        <topicName>/sensors/sonar_sensor/sonar_zero_range</topicName>
        <frameId>sonar_E0_link</frameId>
      </plugin>
    </sensor>
  </gazebo>
  <joint name="sonar_E6_joint" type="fixed">
    <origin rpy="0 0 1.57079632679" xyz="-0.009 0.2995 0.088"/>
    <parent link="base_link"/>
    <child link="sonar_E6_link"/>
  </joint>
  <link name="sonar_E6_link">
    <inertial>
      <mass value="0.001"/>
      <origin rpy="0 0 0" xyz="0 0 0"/>
      <inertia ixx="0.000000017" ixy="0" ixz="0" iyy="0.000000017" iyz="0" izz="0.000000017"/>
    </inertial>
    <visual>
      <origin rpy="0 0 0" xyz="0 0 0"/>
      <geometry>
        <!--<box size="0.01 0.01 0.01" /> -->
        <mesh filename="package://hector_sensors_description/meshes/sonar_sensor/max_sonar_ez4.dae"/>
      </geometry>
    </visual>
    <collision>
      <origin rpy="0 0 0" xyz="0 0 0"/>
      <geometry>
        <box size="0.01 0.01 0.01"/>
      </geometry>
    </collision>
  </link>
  <gazebo reference="sonar_E6_link">
    <sensor name="sonar_E6" type="ray">
      <always_on>true</always_on>
      <update_rate>20</update_rate>
      <visualize>false</visualize>
      <ray>
        <scan>
          <horizontal>
            <samples>60</samples>
            <resolution>1</resolution>
            <min_angle>-0.5236</min_angle>
            <max_angle>0.5236</max_angle>
          </horizontal>
        </scan>
        <range>
          <min>0.15</min>
          <max>6.0</max>
          <resolution>0.03</resolution>
        </range>
      </ray>
      <plugin filename="libhector_gazebo_ros_sonar.so" name="gazebo_ros_sonar_E6_controller">
        <gaussianNoise>0.03</gaussianNoise>
        <topicName>/sensors/sonar_sensor/sonar_six_range</topicName>
        <frameId>sonar_E6_link</frameId>
      </plugin>
    </sensor>
  </gazebo>
  <joint name="sonar_E8_joint" type="fixed">
    <origin rpy="0 0 4.71238898038" xyz="-0.009 -0.2995 0.088"/>
    <parent link="base_link"/>
    <child link="sonar_E8_link"/>
  </joint>
  <link name="sonar_E8_link">
    <inertial>
      <mass value="0.001"/>
      <origin rpy="0 0 0" xyz="0 0 0"/>
      <inertia ixx="0.000000017" ixy="0" ixz="0" iyy="0.000000017" iyz="0" izz="0.000000017"/>
    </inertial>
    <visual>
      <origin rpy="0 0 0" xyz="0 0 0"/>
      <geometry>
        <!--<box size="0.01 0.01 0.01" /> -->
        <mesh filename="package://hector_sensors_description/meshes/sonar_sensor/max_sonar_ez4.dae"/>
      </geometry>
    </visual>
    <collision>
      <origin rpy="0 0 0" xyz="0 0 0"/>
      <geometry>
        <box size="0.01 0.01 0.01"/>
      </geometry>
    </collision>
  </link>
  <gazebo reference="sonar_E8_link">
    <sensor name="sonar_E8" type="ray">
      <always_on>true</always_on>
      <update_rate>20</update_rate>
      <visualize>false</visualize>
      <ray>
        <scan>
          <horizontal>
            <samples>60</samples>
            <resolution>1</resolution>
            <min_angle>-0.5236</min_angle>
            <max_angle>0.5236</max_angle>
          </horizontal>
        </scan>
        <range>
          <min>0.15</min>
          <max>6.0</max>
          <resolution>0.03</resolution>
        </range>
      </ray>
      <plugin filename="libhector_gazebo_ros_sonar.so" name="gazebo_ros_sonar_E8_controller">
        <gaussianNoise>0.03</gaussianNoise>
        <topicName>/sensors/sonar_sensor/sonar_eight_range</topicName>
        <frameId>sonar_E8_link</frameId>
      </plugin>
    </sensor>
  </gazebo>
  <joint name="sonar_E2_joint" type="fixed">
    <origin rpy="0 0 0.0" xyz="0.324 -0.07 0.128"/>
    <parent link="base_link"/>
    <child link="sonar_E2_link"/>
  </joint>
  <link name="sonar_E2_link">
    <inertial>
      <mass value="0.001"/>
      <origin rpy="0 0 0" xyz="0 0 0"/>
      <inertia ixx="0.000000017" ixy="0" ixz="0" iyy="0.000000017" iyz="0" izz="0.000000017"/>
    </inertial>
    <visual>
      <origin rpy="0 0 0" xyz="0 0 0"/>
      <geometry>
        <!--<box size="0.01 0.01 0.01" /> -->
        <mesh filename="package://hector_sensors_description/meshes/sonar_sensor/max_sonar_ez4.dae"/>
      </geometry>
    </visual>
    <collision>
      <origin rpy="0 0 0" xyz="0 0 0"/>
      <geometry>
        <box size="0.01 0.01 0.01"/>
      </geometry>
    </collision>
  </link>
  <gazebo reference="sonar_E2_link">
    <sensor name="sonar_E2" type="ray">
      <always_on>true</always_on>
      <update_rate>20</update_rate>
      <visualize>false</visualize>
      <ray>
        <scan>
          <horizontal>
            <samples>60</samples>
            <resolution>1</resolution>
            <min_angle>-0.5236</min_angle>
            <max_angle>0.5236</max_angle>
          </horizontal>
        </scan>
        <range>
          <min>0.15</min>
          <max>6.0</max>
          <resolution>0.03</resolution>
        </range>
      </ray>
      <plugin filename="libhector_gazebo_ros_sonar.so" name="gazebo_ros_sonar_E2_controller">
        <gaussianNoise>0.03</gaussianNoise>
        <topicName>/sensors/sonar_sensor/sonar_two_range</topicName>
        <frameId>sonar_E2_link</frameId>
      </plugin>
    </sensor>
  </gazebo>
  <joint name="sonar_E4_joint" type="fixed">
    <origin rpy="0 0 0.0" xyz="0.324 0.07 0.128"/>
    <parent link="base_link"/>
    <child link="sonar_E4_link"/>
  </joint>
  <link name="sonar_E4_link">
    <inertial>
      <mass value="0.001"/>
      <origin rpy="0 0 0" xyz="0 0 0"/>
      <inertia ixx="0.000000017" ixy="0" ixz="0" iyy="0.000000017" iyz="0" izz="0.000000017"/>
    </inertial>
    <visual>
      <origin rpy="0 0 0" xyz="0 0 0"/>
      <geometry>
        <!--<box size="0.01 0.01 0.01" /> -->
        <mesh filename="package://hector_sensors_description/meshes/sonar_sensor/max_sonar_ez4.dae"/>
      </geometry>
    </visual>
    <collision>
      <origin rpy="0 0 0" xyz="0 0 0"/>
      <geometry>
        <box size="0.01 0.01 0.01"/>
      </geometry>
    </collision>
  </link>
  <gazebo reference="sonar_E4_link">
    <sensor name="sonar_E4" type="ray">
      <always_on>true</always_on>
      <update_rate>20</update_rate>
      <visualize>false</visualize>
      <ray>
        <scan>
          <horizontal>
            <samples>60</samples>
            <resolution>1</resolution>
            <min_angle>-0.5236</min_angle>
            <max_angle>0.5236</max_angle>
          </horizontal>
        </scan>
        <range>
          <min>0.15</min>
          <max>6.0</max>
          <resolution>0.03</resolution>
        </range>
      </ray>
      <plugin filename="libhector_gazebo_ros_sonar.so" name="gazebo_ros_sonar_E4_controller">
        <gaussianNoise>0.03</gaussianNoise>
        <topicName>/sensors/sonar_sensor/sonar_four_range</topicName>
        <frameId>sonar_E4_link</frameId>
      </plugin>
    </sensor>
  </gazebo>
  <link name="rear_1_wall_link">
    <inertial>
      <mass value="0.001"/>
      <origin rpy="0 0 0" xyz="0 0 0"/>
      <inertia ixx="0.000000017" ixy="0" ixz="0" iyy="0.000000017" iyz="0" izz="0.000000017"/>
    </inertial>
    <visual>
      <origin rpy="0 0 0" xyz="0 0 0"/>
      <geometry>
        <box size="0.0001 0.005 0.005"/>
      </geometry>
      <cast_shadows>0</cast_shadows>
    </visual>
    <collision>
      <origin rpy="0 0 0" xyz="0 0 0"/>
      <geometry>
        <box size="0.0001 0.005 0.005"/>
      </geometry>
    </collision>
  </link>
  <link name="rear_1_link">
    <inertial>
      <mass value="0.001"/>
      <origin rpy="0 0 0" xyz="0 0 0"/>
      <inertia ixx="0.000000017" ixy="0" ixz="0" iyy="0.000000017" iyz="0" izz="0.000000017"/>
    </inertial>
    <visual>
      <origin rpy="0 0 0" xyz="0 0 0"/>
      <geometry>
        <box size="0.00001 0.00001 0.00001"/>
      </geometry>
      <cast_shadows>0</cast_shadows>
    </visual>
    <collision>
      <origin rpy="0 0 0" xyz="0 0 0"/>
      <geometry>
        <box size="0.00001 0.00001 0.00001"/>
      </geometry>
    </collision>
  </link>
  <link name="rear_2_wall_link">
    <inertial>
      <mass value="0.001"/>
      <origin rpy="0 0 0" xyz="0 0 0"/>
      <inertia ixx="0.000000017" ixy="0" ixz="0" iyy="0.000000017" iyz="0" izz="0.000000017"/>
    </inertial>
    <visual>
      <origin rpy="0 0 0" xyz="0 0 0"/>
      <geometry>
        <box size="0.0001 0.005 0.005"/>
      </geometry>
      <cast_shadows>0</cast_shadows>
    </visual>
    <collision>
      <origin rpy="0 0 0" xyz="0 0 0"/>
      <geometry>
        <box size="0.0001 0.005 0.005"/>
      </geometry>
    </collision>
  </link>
  <link name="rear_2_link">
    <inertial>
      <mass value="0.001"/>
      <origin rpy="0 0 0" xyz="0 0 0"/>
      <inertia ixx="0.000000017" ixy="0" ixz="0" iyy="0.000000017" iyz="0" izz="0.000000017"/>
    </inertial>
    <visual>
      <origin rpy="0 0 0" xyz="0 0 0"/>
      <geometry>
        <box size="0.00001 0.00001 0.00001"/>
      </geometry>
      <cast_shadows>0</cast_shadows>
    </visual>
    <collision>
      <origin rpy="0 0 0" xyz="0 0 0"/>
      <geometry>
        <box size="0.00001 0.00001 0.00001"/>
      </geometry>
    </collision>
  </link>
  <joint name="rear_1_joint_wall" type="fixed">
    <origin rpy="0 0 0" xyz="-0.00008 0 0"/>
    <parent link="rear_1_wall_link"/>
    <child link="rear_1_link"/>
  </joint>
  <joint name="rear_2_joint_wall" type="fixed">
    <origin rpy="0 0 0" xyz="-0.00008 0 0"/>
    <parent link="rear_2_wall_link"/>
    <child link="rear_2_link"/>
  </joint>
  <joint name="rear_1_joint" type="fixed">
    <origin rpy="0 0 1.4398966329" xyz="-0.326478612153 0.00032631548055 0.126"/>
    <parent link="base_link"/>
    <child link="rear_1_wall_link"/>
  </joint>
  <joint name="rear_2_joint" type="fixed">
    <origin rpy="0 0 -1.4398966329" xyz="-0.326478612153 -0.00032631548055 0.126"/>
    <parent link="base_link"/>
    <child link="rear_2_wall_link"/>
  </joint>
  <gazebo reference="rear_1_wall_link">
    <material>Gazebo/Grey</material>
  </gazebo>
  <gazebo reference="rear_1_link">
    <material>Gazebo/White</material>
    <sensor name="camera" type="camera">
      <camera name="__default__">
        <horizontal_fov>0.1</horizontal_fov>
        <image>
          <width>1</width>
          <height>1</height>
        </image>
        <clip>
          <near>0.00001</near>
          <far>100</far>
        </clip>
      </camera>
      <plugin filename="libgazebo_ros_camera.so" name="ir_controller">
        <cameraName>rear_1_camera</cameraName>
        <alwaysOn>true</alwaysOn>
        <updateRate>10</updateRate>
        <imageTopicName>rgb/image_raw</imageTopicName>
        <cameraInfoTopicName>rgb/camera_info</cameraInfoTopicName>
        <frameName>rear_1_link</frameName>
        <hackBaseline>0.07</hackBaseline>
        <distortionK1>0.0</distortionK1>
        <distortionK2>0.0</distortionK2>
        <distortionK3>0.0</distortionK3>
        <distortionT1>0.0</distortionT1>
        <distortionT2>0.0</distortionT2>
      </plugin>
    </sensor>
  </gazebo>
  <gazebo reference="rear_2_wall_link">
    <material>Gazebo/Grey</material>
  </gazebo>
  <gazebo reference="rear_2_link">
    <material>Gazebo/White</material>
    <sensor name="camera" type="camera">
      <camera name="__default__">
        <horizontal_fov>0.1</horizontal_fov>
        <image>
          <width>1</width>
          <height>1</height>
        </image>
        <clip>
          <near>0.00001</near>
          <far>100</far>
        </clip>
      </camera>
      <plugin filename="libgazebo_ros_camera.so" name="ir_controller">
        <cameraName>rear_2_camera</cameraName>
        <alwaysOn>true</alwaysOn>
        <updateRate>10</updateRate>
        <imageTopicName>rgb/image_raw</imageTopicName>
        <cameraInfoTopicName>rgb/camera_info</cameraInfoTopicName>
        <frameName>rear_2_link</frameName>
        <hackBaseline>0.07</hackBaseline>
        <distortionK1>0.0</distortionK1>
        <distortionK2>0.0</distortionK2>
        <distortionK3>0.0</distortionK3>
        <distortionT1>0.0</distortionT1>
        <distortionT2>0.0</distortionT2>
      </plugin>
    </sensor>
  </gazebo>
  <link name="right_1_wall_link">
    <inertial>
      <mass value="0.001"/>
      <origin rpy="0 0 0" xyz="0 0 0"/>
      <inertia ixx="0.000000017" ixy="0" ixz="0" iyy="0.000000017" iyz="0" izz="0.000000017"/>
    </inertial>
    <visual>
      <origin rpy="0 0 0" xyz="0 0 0"/>
      <geometry>
        <box size="0.0001 0.005 0.005"/>
      </geometry>
      <cast_shadows>0</cast_shadows>
    </visual>
    <collision>
      <origin rpy="0 0 0" xyz="0 0 0"/>
      <geometry>
        <box size="0.0001 0.005 0.005"/>
      </geometry>
    </collision>
  </link>
  <link name="right_1_link">
    <inertial>
      <mass value="0.001"/>
      <origin rpy="0 0 0" xyz="0 0 0"/>
      <inertia ixx="0.000000017" ixy="0" ixz="0" iyy="0.000000017" iyz="0" izz="0.000000017"/>
    </inertial>
    <visual>
      <origin rpy="0 0 0" xyz="0 0 0"/>
      <geometry>
        <box size="0.00001 0.00001 0.00001"/>
      </geometry>
      <cast_shadows>0</cast_shadows>
    </visual>
    <collision>
      <origin rpy="0 0 0" xyz="0 0 0"/>
      <geometry>
        <box size="0.00001 0.00001 0.00001"/>
      </geometry>
    </collision>
  </link>
  <link name="right_2_wall_link">
    <inertial>
      <mass value="0.001"/>
      <origin rpy="0 0 0" xyz="0 0 0"/>
      <inertia ixx="0.000000017" ixy="0" ixz="0" iyy="0.000000017" iyz="0" izz="0.000000017"/>
    </inertial>
    <visual>
      <origin rpy="0 0 0" xyz="0 0 0"/>
      <geometry>
        <box size="0.0001 0.005 0.005"/>
      </geometry>
      <cast_shadows>0</cast_shadows>
    </visual>
    <collision>
      <origin rpy="0 0 0" xyz="0 0 0"/>
      <geometry>
        <box size="0.0001 0.005 0.005"/>
      </geometry>
    </collision>
  </link>
  <link name="right_2_link">
    <inertial>
      <mass value="0.001"/>
      <origin rpy="0 0 0" xyz="0 0 0"/>
      <inertia ixx="0.000000017" ixy="0" ixz="0" iyy="0.000000017" iyz="0" izz="0.000000017"/>
    </inertial>
    <visual>
      <origin rpy="0 0 0" xyz="0 0 0"/>
      <geometry>
        <box size="0.00001 0.00001 0.00001"/>
      </geometry>
      <cast_shadows>0</cast_shadows>
    </visual>
    <collision>
      <origin rpy="0 0 0" xyz="0 0 0"/>
      <geometry>
        <box size="0.00001 0.00001 0.00001"/>
      </geometry>
    </collision>
  </link>
  <joint name="right_1_joint_wall" type="fixed">
    <origin rpy="0 0 0" xyz="-0.00008 0 0"/>
    <parent link="right_1_wall_link"/>
    <child link="right_1_link"/>
  </joint>
  <joint name="right_2_joint_wall" type="fixed">
    <origin rpy="0 0 0" xyz="-0.00008 0 0"/>
    <parent link="right_2_wall_link"/>
    <child link="right_2_link"/>
  </joint>
  <joint name="right_1_joint" type="fixed">
    <origin rpy="0 0 2.74889357189" xyz="-0.000956708580913 -0.301809698831 0.126"/>
    <parent link="base_link"/>
    <child link="right_1_wall_link"/>
  </joint>
  <joint name="right_2_joint" type="fixed">
    <origin rpy="0 0 0.392699081699" xyz="0.000956708580913 -0.301809698831 0.126"/>
    <parent link="base_link"/>
    <child link="right_2_wall_link"/>
  </joint>
  <gazebo reference="right_1_wall_link">
    <material>Gazebo/Grey</material>
  </gazebo>
  <gazebo reference="right_1_link">
    <material>Gazebo/White</material>
    <sensor name="camera" type="camera">
      <camera name="__default__">
        <horizontal_fov>0.1</horizontal_fov>
        <image>
          <width>1</width>
          <height>1</height>
        </image>
        <clip>
          <near>0.00001</near>
          <far>100</far>
        </clip>
      </camera>
      <plugin filename="libgazebo_ros_camera.so" name="ir_controller">
        <cameraName>right_1_camera</cameraName>
        <alwaysOn>true</alwaysOn>
        <updateRate>10</updateRate>
        <imageTopicName>rgb/image_raw</imageTopicName>
        <cameraInfoTopicName>rgb/camera_info</cameraInfoTopicName>
        <frameName>right_1_link</frameName>
        <hackBaseline>0.07</hackBaseline>
        <distortionK1>0.0</distortionK1>
        <distortionK2>0.0</distortionK2>
        <distortionK3>0.0</distortionK3>
        <distortionT1>0.0</distortionT1>
        <distortionT2>0.0</distortionT2>
      </plugin>
    </sensor>
  </gazebo>
  <gazebo reference="right_2_wall_link">
    <material>Gazebo/Grey</material>
  </gazebo>
  <gazebo reference="right_2_link">
    <material>Gazebo/White</material>
    <sensor name="camera" type="camera">
      <camera name="__default__">
        <horizontal_fov>0.1</horizontal_fov>
        <image>
          <width>1</width>
          <height>1</height>
        </image>
        <clip>
          <near>0.00001</near>
          <far>100</far>
        </clip>
      </camera>
      <plugin filename="libgazebo_ros_camera.so" name="ir_controller">
        <cameraName>right_2_camera</cameraName>
        <alwaysOn>true</alwaysOn>
        <updateRate>10</updateRate>
        <imageTopicName>rgb/image_raw</imageTopicName>
        <cameraInfoTopicName>rgb/camera_info</cameraInfoTopicName>
        <frameName>right_2_link</frameName>
        <hackBaseline>0.07</hackBaseline>
        <distortionK1>0.0</distortionK1>
        <distortionK2>0.0</distortionK2>
        <distortionK3>0.0</distortionK3>
        <distortionT1>0.0</distortionT1>
        <distortionT2>0.0</distortionT2>
      </plugin>
    </sensor>
  </gazebo>
  <link name="left_1_wall_link">
    <inertial>
      <mass value="0.001"/>
      <origin rpy="0 0 0" xyz="0 0 0"/>
      <inertia ixx="0.000000017" ixy="0" ixz="0" iyy="0.000000017" iyz="0" izz="0.000000017"/>
    </inertial>
    <visual>
      <origin rpy="0 0 0" xyz="0 0 0"/>
      <geometry>
        <box size="0.0001 0.005 0.005"/>
      </geometry>
      <cast_shadows>0</cast_shadows>
    </visual>
    <collision>
      <origin rpy="0 0 0" xyz="0 0 0"/>
      <geometry>
        <box size="0.0001 0.005 0.005"/>
      </geometry>
    </collision>
  </link>
  <link name="left_1_link">
    <inertial>
      <mass value="0.001"/>
      <origin rpy="0 0 0" xyz="0 0 0"/>
      <inertia ixx="0.000000017" ixy="0" ixz="0" iyy="0.000000017" iyz="0" izz="0.000000017"/>
    </inertial>
    <visual>
      <origin rpy="0 0 0" xyz="0 0 0"/>
      <geometry>
        <box size="0.00001 0.00001 0.00001"/>
      </geometry>
      <cast_shadows>0</cast_shadows>
    </visual>
    <collision>
      <origin rpy="0 0 0" xyz="0 0 0"/>
      <geometry>
        <box size="0.00001 0.00001 0.00001"/>
      </geometry>
    </collision>
  </link>
  <link name="left_2_wall_link">
    <inertial>
      <mass value="0.001"/>
      <origin rpy="0 0 0" xyz="0 0 0"/>
      <inertia ixx="0.000000017" ixy="0" ixz="0" iyy="0.000000017" iyz="0" izz="0.000000017"/>
    </inertial>
    <visual>
      <origin rpy="0 0 0" xyz="0 0 0"/>
      <geometry>
        <box size="0.0001 0.005 0.005"/>
      </geometry>
      <cast_shadows>0</cast_shadows>
    </visual>
    <collision>
      <origin rpy="0 0 0" xyz="0 0 0"/>
      <geometry>
        <box size="0.0001 0.005 0.005"/>
      </geometry>
    </collision>
  </link>
  <link name="left_2_link">
    <inertial>
      <mass value="0.001"/>
      <origin rpy="0 0 0" xyz="0 0 0"/>
      <inertia ixx="0.000000017" ixy="0" ixz="0" iyy="0.000000017" iyz="0" izz="0.000000017"/>
    </inertial>
    <visual>
      <origin rpy="0 0 0" xyz="0 0 0"/>
      <geometry>
        <box size="0.00001 0.00001 0.00001"/>
      </geometry>
      <cast_shadows>0</cast_shadows>
    </visual>
    <collision>
      <origin rpy="0 0 0" xyz="0 0 0"/>
      <geometry>
        <box size="0.00001 0.00001 0.00001"/>
      </geometry>
    </collision>
  </link>
  <joint name="left_1_joint_wall" type="fixed">
    <origin rpy="0 0 0" xyz="-0.00008 0 0"/>
    <parent link="left_1_wall_link"/>
    <child link="left_1_link"/>
  </joint>
  <joint name="left_2_joint_wall" type="fixed">
    <origin rpy="0 0 0" xyz="-0.00008 0 0"/>
    <parent link="left_2_wall_link"/>
    <child link="left_2_link"/>
  </joint>
  <joint name="left_1_joint" type="fixed">
    <origin rpy="0 0 5.89048622548" xyz="0.000956708580913 0.301809698831 0.126"/>
    <parent link="base_link"/>
    <child link="left_1_wall_link"/>
  </joint>
  <joint name="left_2_joint" type="fixed">
    <origin rpy="0 0 3.53429173529" xyz="-0.000956708580913 0.301809698831 0.126"/>
    <parent link="base_link"/>
    <child link="left_2_wall_link"/>
  </joint>
  <gazebo reference="left_1_wall_link">
    <material>Gazebo/Grey</material>
  </gazebo>
  <gazebo reference="left_1_link">
    <material>Gazebo/White</material>
    <sensor name="camera" type="camera">
      <camera name="__default__">
        <horizontal_fov>0.1</horizontal_fov>
        <image>
          <width>1</width>
          <height>1</height>
        </image>
        <clip>
          <near>0.00001</near>
          <far>100</far>
        </clip>
      </camera>
      <plugin filename="libgazebo_ros_camera.so" name="ir_controller">
        <cameraName>left_1_camera</cameraName>
        <alwaysOn>true</alwaysOn>
        <updateRate>10</updateRate>
        <imageTopicName>rgb/image_raw</imageTopicName>
        <cameraInfoTopicName>rgb/camera_info</cameraInfoTopicName>
        <frameName>left_1_link</frameName>
        <hackBaseline>0.07</hackBaseline>
        <distortionK1>0.0</distortionK1>
        <distortionK2>0.0</distortionK2>
        <distortionK3>0.0</distortionK3>
        <distortionT1>0.0</distortionT1>
        <distortionT2>0.0</distortionT2>
      </plugin>
    </sensor>
  </gazebo>
  <gazebo reference="left_2_wall_link">
    <material>Gazebo/Grey</material>
  </gazebo>
  <gazebo reference="left_2_link">
    <material>Gazebo/White</material>
    <sensor name="camera" type="camera">
      <camera name="__default__">
        <horizontal_fov>0.1</horizontal_fov>
        <image>
          <width>1</width>
          <height>1</height>
        </image>
        <clip>
          <near>0.00001</near>
          <far>100</far>
        </clip>
      </camera>
      <plugin filename="libgazebo_ros_camera.so" name="ir_controller">
        <cameraName>left_2_camera</cameraName>
        <alwaysOn>true</alwaysOn>
        <updateRate>10</updateRate>
        <imageTopicName>rgb/image_raw</imageTopicName>
        <cameraInfoTopicName>rgb/camera_info</cameraInfoTopicName>
        <frameName>left_2_link</frameName>
        <hackBaseline>0.07</hackBaseline>
        <distortionK1>0.0</distortionK1>
        <distortionK2>0.0</distortionK2>
        <distortionK3>0.0</distortionK3>
        <distortionT1>0.0</distortionT1>
        <distortionT2>0.0</distortionT2>
      </plugin>
    </sensor>
  </gazebo>
  <joint name="prox_left_joint" type="fixed">
    <origin rpy="0 0 3.14159265359" xyz="-0.324 0.085 0.15"/>
    <parent link="base_link"/>
    <child link="prox_left_link"/>
  </joint>
  <link name="prox_left_link">
    <inertial>
      <mass value="0.001"/>
      <origin rpy="0 0 0" xyz="0 0 0"/>
      <inertia ixx="0.000000017" ixy="0" ixz="0" iyy="0.000000017" iyz="0" izz="0.000000017"/>
    </inertial>
    <visual>
      <origin rpy="0 0 0" xyz="0 0 0"/>
      <geometry>
        <!--<box size="0.01 0.01 0.01" /> -->
        <mesh filename="package://hector_sensors_description/meshes/sonar_sensor/max_sonar_ez4.dae"/>
      </geometry>
    </visual>
    <collision>
      <origin rpy="0 0 0" xyz="0 0 0"/>
      <geometry>
        <box size="0.01 0.01 0.01"/>
      </geometry>
    </collision>
  </link>
  <gazebo reference="prox_left_link">
    <sensor name="prox_left" type="ray">
      <always_on>true</always_on>
      <update_rate>20</update_rate>
      <visualize>1</visualize>
      <ray>
        <scan>
          <horizontal>
            <samples>1</samples>
            <resolution>1</resolution>
            <min_angle>-0.025</min_angle>
            <max_angle>0.025</max_angle>
          </horizontal>
        </scan>
        <range>
          <min>0.05</min>
          <max>0.15</max>
          <resolution>0.01</resolution>
        </range>
      </ray>
      <plugin filename="libhector_gazebo_ros_sonar.so" name="gazebo_ros_prox_left_controller">
        <gaussianNoise>0.0</gaussianNoise>
        <topicName>/sensors/sonar_sensor/proximity_left</topicName>
        <frameId>prox_left_link</frameId>
      </plugin>
    </sensor>
  </gazebo>
  <joint name="prox_right_joint" type="fixed">
    <origin rpy="0 0 3.14159265359" xyz="-0.324 -0.085 0.15"/>
    <parent link="base_link"/>
    <child link="prox_right_link"/>
  </joint>
  <link name="prox_right_link">
    <inertial>
      <mass value="0.001"/>
      <origin rpy="0 0 0" xyz="0 0 0"/>
      <inertia ixx="0.000000017" ixy="0" ixz="0" iyy="0.000000017" iyz="0" izz="0.000000017"/>
    </inertial>
    <visual>
      <origin rpy="0 0 0" xyz="0 0 0"/>
      <geometry>
        <!--<box size="0.01 0.01 0.01" /> -->
        <mesh filename="package://hector_sensors_description/meshes/sonar_sensor/max_sonar_ez4.dae"/>
      </geometry>
    </visual>
    <collision>
      <origin rpy="0 0 0" xyz="0 0 0"/>
      <geometry>
        <box size="0.01 0.01 0.01"/>
      </geometry>
    </collision>
  </link>
  <gazebo reference="prox_right_link">
    <sensor name="prox_right" type="ray">
      <always_on>true</always_on>
      <update_rate>20</update_rate>
      <visualize>1</visualize>
      <ray>
        <scan>
          <horizontal>
            <samples>1</samples>
            <resolution>1</resolution>
            <min_angle>-0.025</min_angle>
            <max_angle>0.025</max_angle>
          </horizontal>
        </scan>
        <range>
          <min>0.05</min>
          <max>0.15</max>
          <resolution>0.01</resolution>
        </range>
      </ray>
      <plugin filename="libhector_gazebo_ros_sonar.so" name="gazebo_ros_prox_right_controller">
        <gaussianNoise>0.0</gaussianNoise>
        <topicName>/sensors/sonar_sensor/proximity_right</topicName>
        <frameId>prox_right_link</frameId>
      </plugin>
    </sensor>
  </gazebo>
  <link name="left_battery">
    <visual>
      <origin rpy="0 0 0" xyz="0 0 0"/>
      <geometry>
        <cylinder length="0.015" radius="0.0165"/>
      </geometry>
    </visual>
    <collision>
      <origin rpy="0 0 0" xyz="0 0 0"/>
      <geometry>
        <cylinder length="0.015" radius="0.0165"/>
      </geometry>
    </collision>
    <inertial>
      <mass value="0.1"/>
      <origin xyz="0 0 0"/>
      <inertia ixx="8.68125e-06" ixy="0" ixz="0" iyy="8.68125e-06" iyz="0" izz="1.36125e-05"/>
    </inertial>
  </link>
  <joint name="left_battery_joint" type="prismatic">
    <parent link="base_link"/>
    <child link="left_battery"/>
    <origin rpy="1.57079632679 0 0" xyz="-0.244 0.049 0.025"/>
    <axis xyz="0 1 0"/>
    <limit effort="1000.0" lower="0" upper="0.2" velocity="0.5"/>
  </joint>
  <gazebo reference="left_battery">
    <material>Gazebo/Black</material>
    <sensor name="left_battery_sensor" type="contact">
      <contact>
        <collision>left_battery_collision</collision>
      </contact>
      <plugin filename="libgazebo_ros_bumper.so" name="left_battery_gazebo_ros_bumper_controller">
        <alwaysOn>true</alwaysOn>
        <updateRate>20</updateRate>
        <bumperTopicName>left_battery</bumperTopicName>
        <frameName>world</frameName>
      </plugin>
    </sensor>
  </gazebo>
  <link name="right_battery">
    <visual>
      <origin rpy="0 0 0" xyz="0 0 0"/>
      <geometry>
        <cylinder length="0.015" radius="0.0165"/>
      </geometry>
    </visual>
    <collision>
      <origin rpy="0 0 0" xyz="0 0 0"/>
      <geometry>
        <cylinder length="0.015" radius="0.0165"/>
      </geometry>
    </collision>
    <inertial>
      <mass value="0.1"/>
      <origin xyz="0 0 0"/>
      <inertia ixx="8.68125e-06" ixy="0" ixz="0" iyy="8.68125e-06" iyz="0" izz="1.36125e-05"/>
    </inertial>
  </link>
  <joint name="right_battery_joint" type="prismatic">
    <parent link="base_link"/>
    <child link="right_battery"/>
    <origin rpy="1.57079632679 0 0" xyz="-0.244 -0.049 0.025"/>
    <axis xyz="0 1 0"/>
    <limit effort="1000.0" lower="0" upper="0.2" velocity="0.5"/>
  </joint>
  <gazebo reference="right_battery">
    <material>Gazebo/Black</material>
    <sensor name="right_battery_sensor" type="contact">
      <contact>
        <collision>right_battery_collision</collision>
      </contact>
      <plugin filename="libgazebo_ros_bumper.so" name="right_battery_gazebo_ros_bumper_controller">
        <alwaysOn>true</alwaysOn>
        <updateRate>20</updateRate>
        <bumperTopicName>right_battery</bumperTopicName>
        <frameName>world</frameName>
      </plugin>
    </sensor>
  </gazebo>
</robot>
